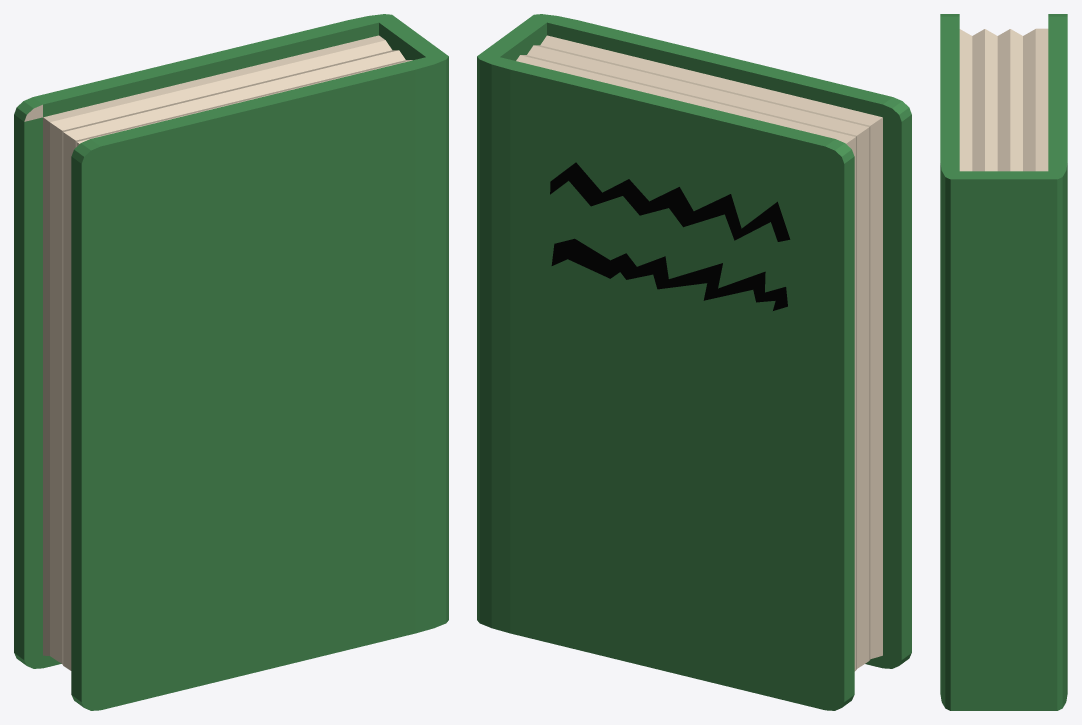
Rendered from book_green.fbx.
3 renders of one model, left to right at view 1: azimuth 30°, elevation 25°; view 2: azimuth 150°, elevation 25°; view 3: azimuth 270°, elevation 25°, orthographic. The views are drawn at different scales.
Visible parts, largest first — view 1: book_green; view 2: book_green; view 3: book_green.
Boxes of the visible parts, x1,y1,x2,y2 form: book_green: [14, 14, 448, 710]; book_green: [477, 14, 911, 710]; book_green: [940, 14, 1067, 710].
Bounding box in the file's own units: 27.16 × 39.28 × 8.53.
